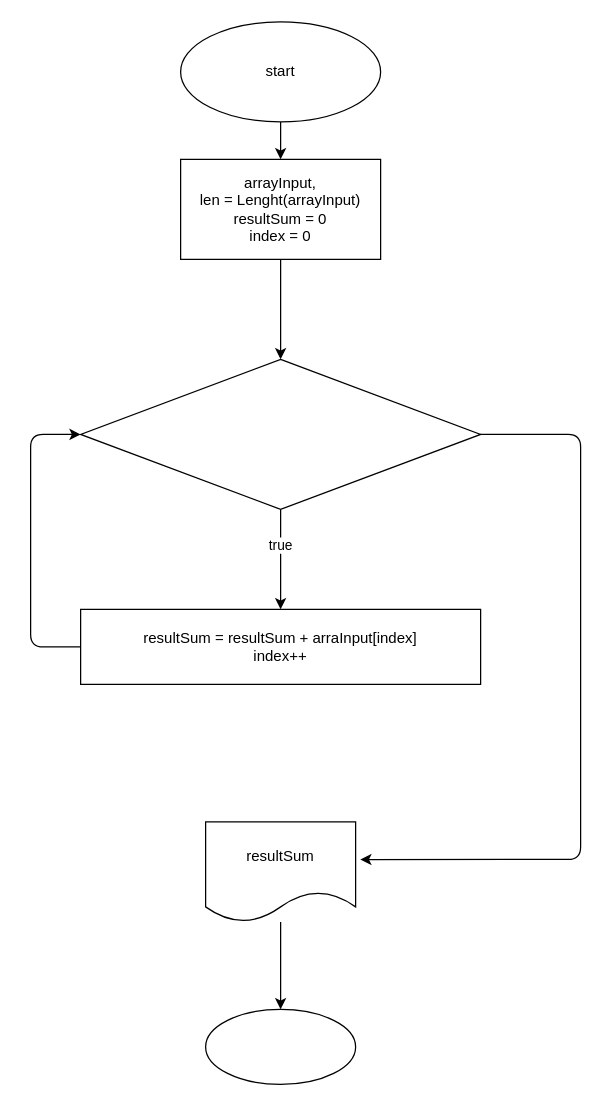
Image size: 613x1106. Some labels were removed from this diagram. Here are the shapes that lost their labels. From the top down, the box of each, then its label:
(79, 358, 481, 509): index < len
(204, 1008, 356, 1084): finish
